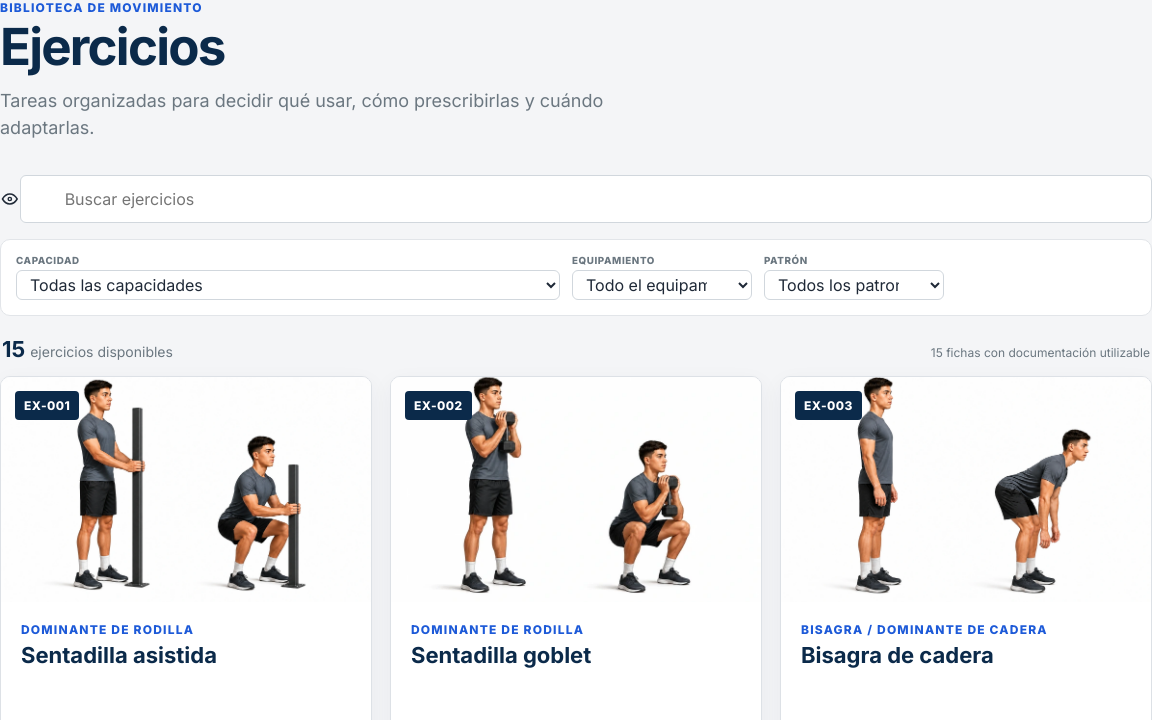
Test: ExerciseCatalogPage (F1-09: Filtros en hoja inferior móvil y resultados) › filters the catalog by search term
Expected: the link "Sentadilla goblet" is shown, [411,642,591,668]
Type "rumano" into the search field labelled "Buscar ejercicios". click: (586, 199)
box: [20,175,1151,223]
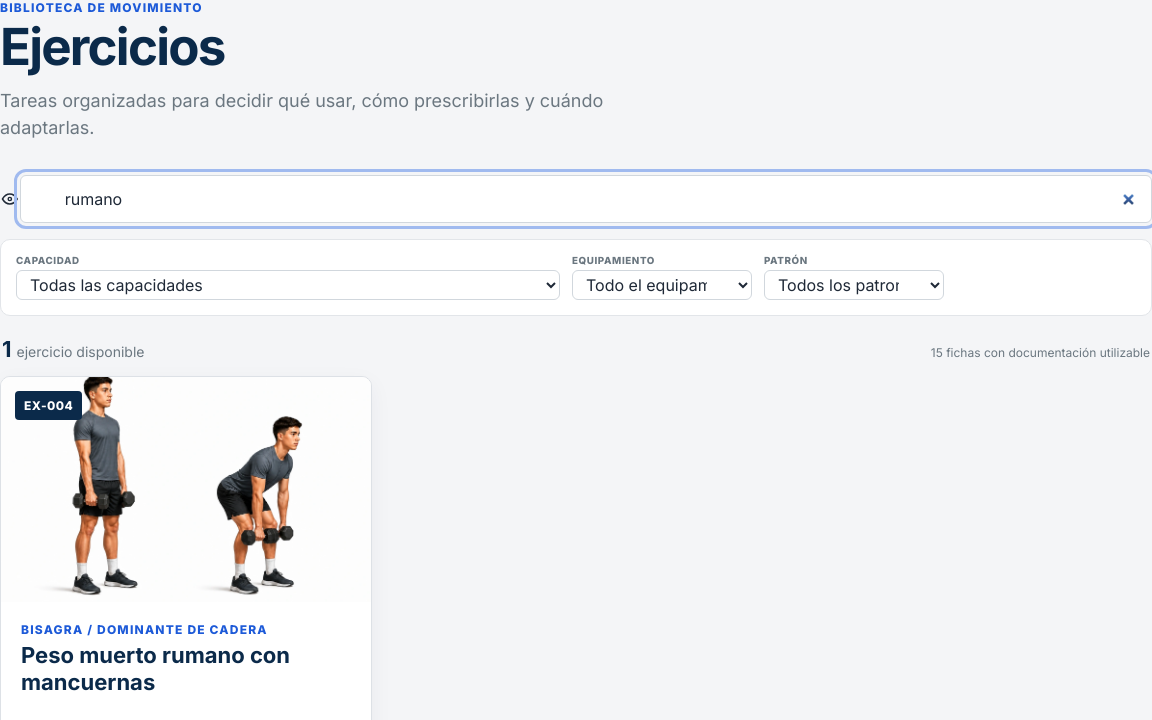
Expected: the heading "Peso muerto rumano con mancuernas" is shown, [21,642,290,694]
Now the link "Sentadilla goblet" is gone
